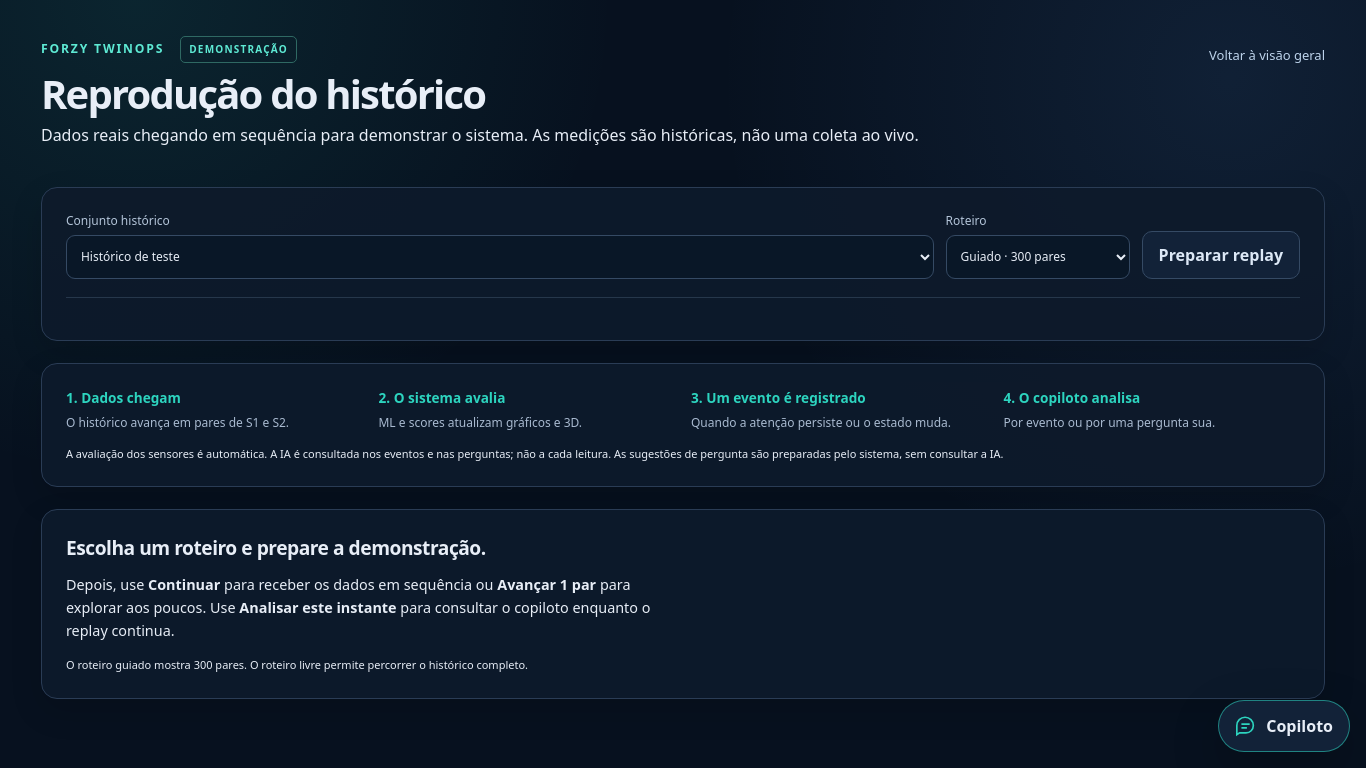
Test case: keeps the demo optional, exposes history clocks and collapses processing details
Click the button "Preparar replay": click(1221, 255) [1142,231,1300,279]
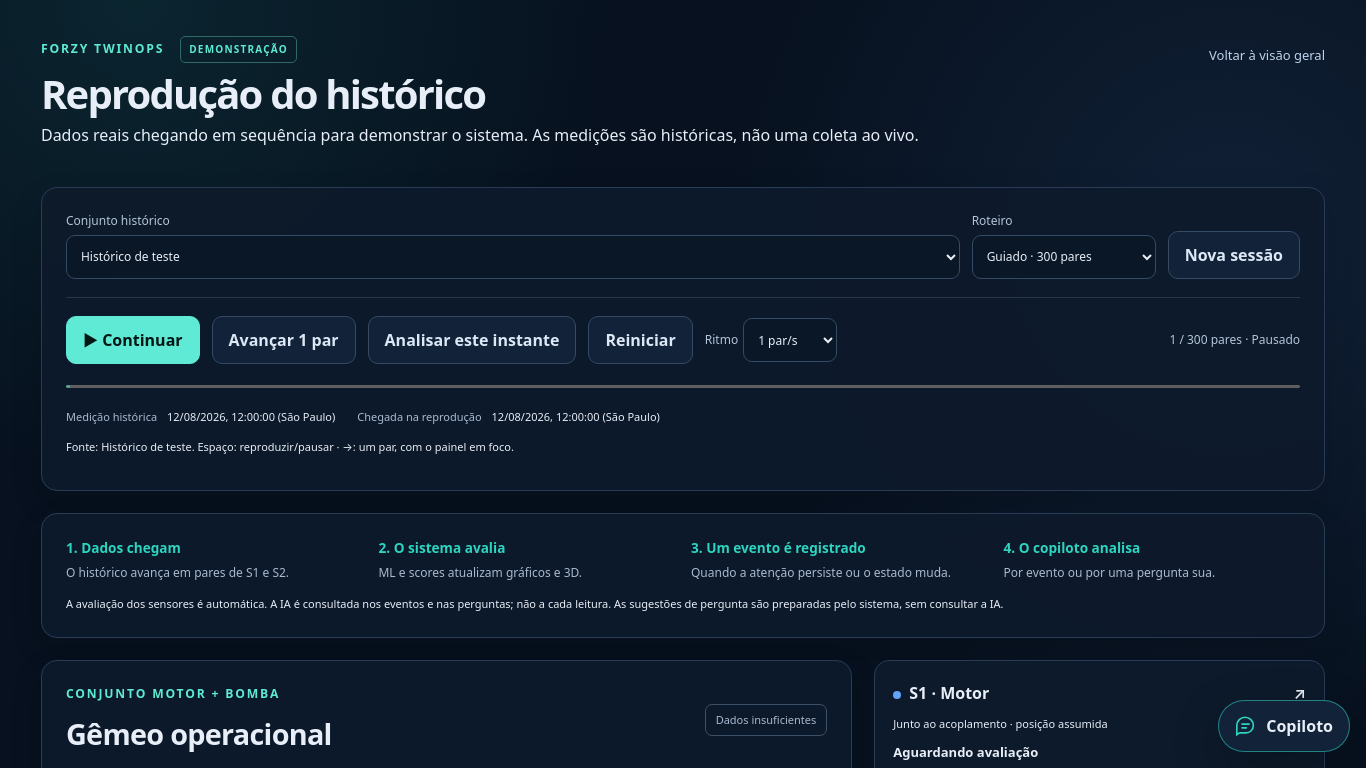
Check: the text "Medição histórica 12/08/2026, 12:00:00 (São Paulo)" is shown, box [66,409,335,426]
Check: the text "Chegada na reprodução 12/08/2026, 12:00:00 (São Paulo)" is shown, box [357,409,660,426]
Check: the text "Fonte: Histórico de teste" is shown, box [66,439,514,454]
